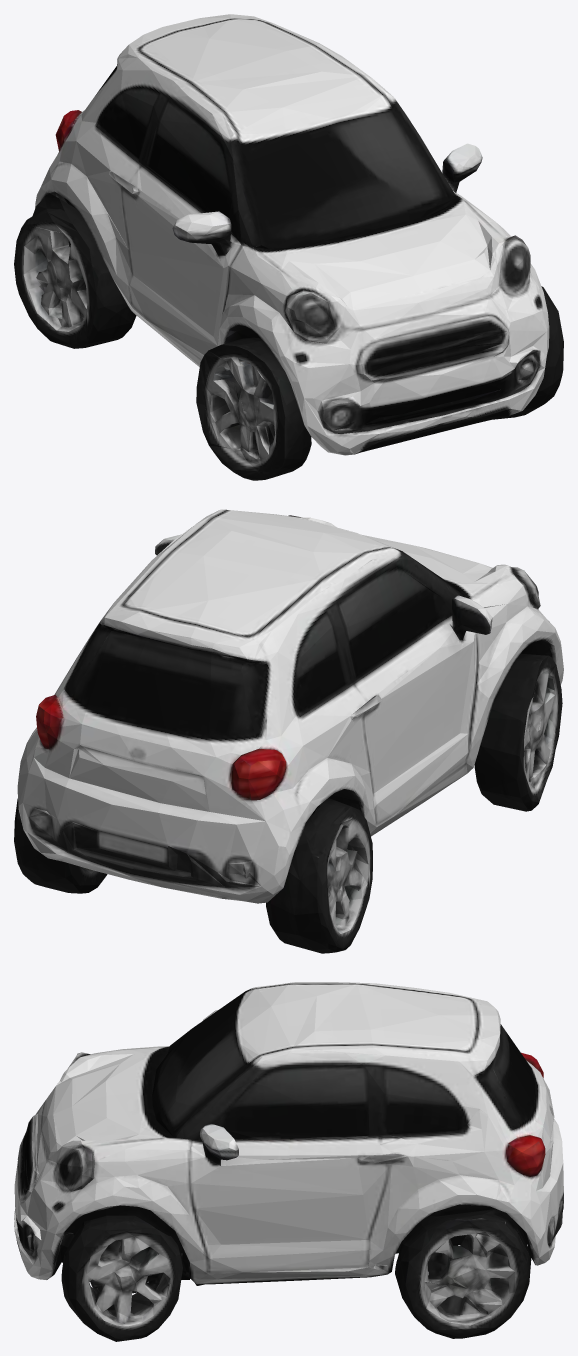
The model's file is hatchback.glb.
3 renders of one model, top to bottom at view 1: azimuth 30°, elevation 25°; view 2: azimuth 150°, elevation 25°; view 3: azimuth 270°, elevation 25°, orthographic. The views are drawn at different scales.
Parts seen in each view (by area): view 1: geometry_0; view 2: geometry_0; view 3: geometry_0.
Part boxes in pixels (x1,y1,x2,y2): geometry_0: [14, 14, 563, 480]; geometry_0: [14, 509, 563, 953]; geometry_0: [14, 982, 563, 1341].
Size of the model in its own units: 2.44 by 2.15 by 4.
Materials: 1 (1 with a texture image).
